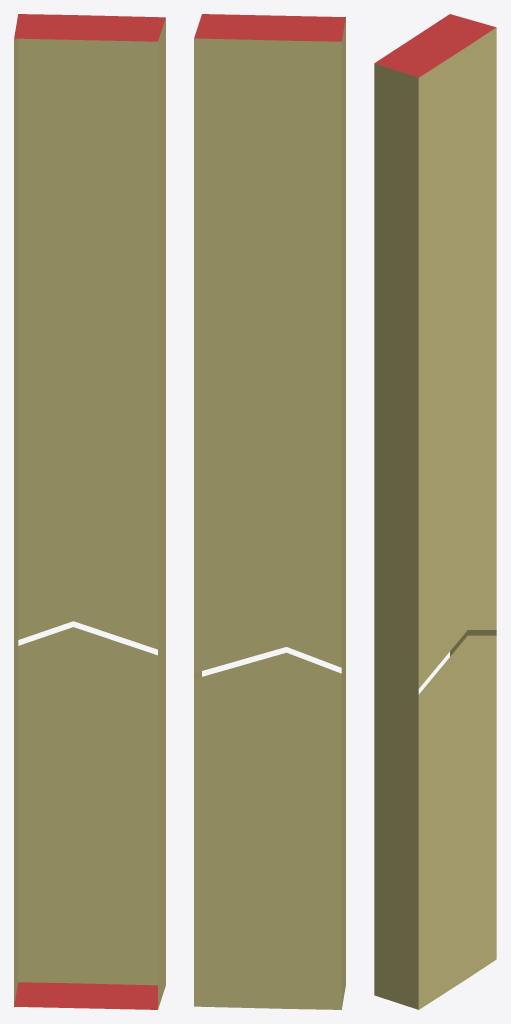
3 views of the same model, side by side, from view 1: azimuth 30°, elevation 25°; view 2: azimuth 210°, elevation 25°; view 3: azimuth 270°, elevation 25° (orthographic). The views are drawn at different scales.
Visible parts, largest first — view 1: group_4, group_3, group_5; view 2: group_4, group_3; view 3: group_4, group_3.
Boxes of the visible parts, <box> form: group_4: <box>14,18,165,1008</box>; group_3: <box>14,14,165,41</box>; group_5: <box>14,982,157,1009</box>; group_4: <box>194,18,345,1009</box>; group_3: <box>194,14,345,41</box>; group_4: <box>374,27,496,1009</box>; group_3: <box>375,14,495,77</box>.
Size of the model in its own units: 2.42 by 1.96 by 16.52.
